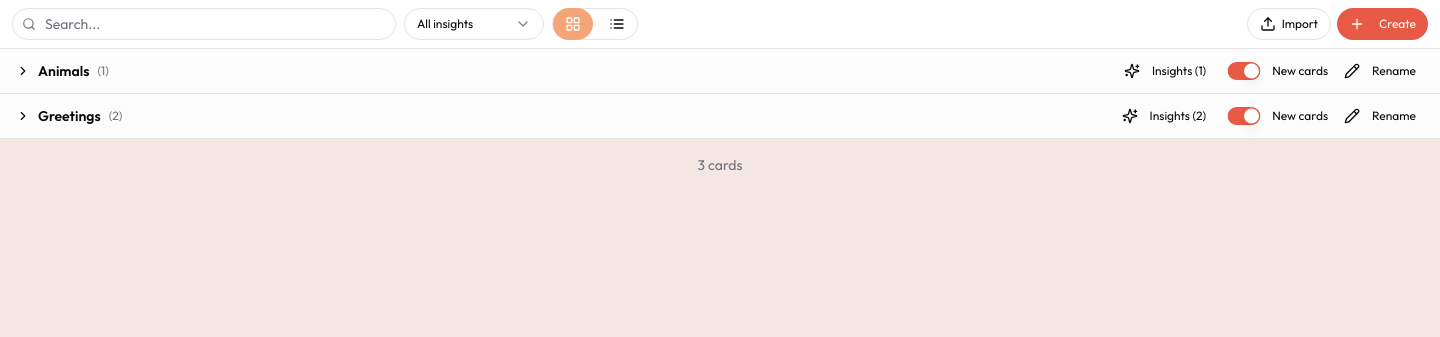
Test: CardsPage › create cards › opens bulk card creator when Create Cards is clicked
Click the button "Create": [1382, 24] box [1337,8,1428,40]
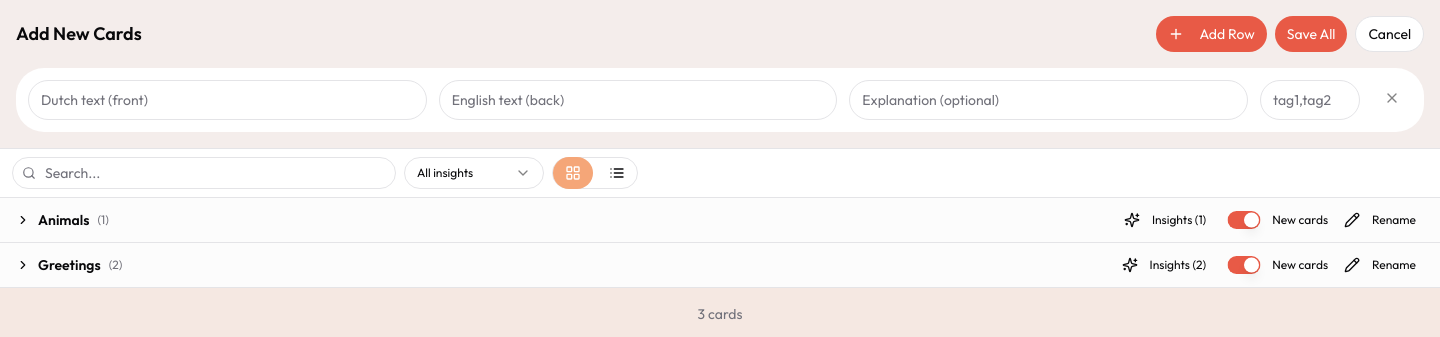
Check: the field with placeholder "Dutch text (front)" is shown, box [28,80,427,120]
